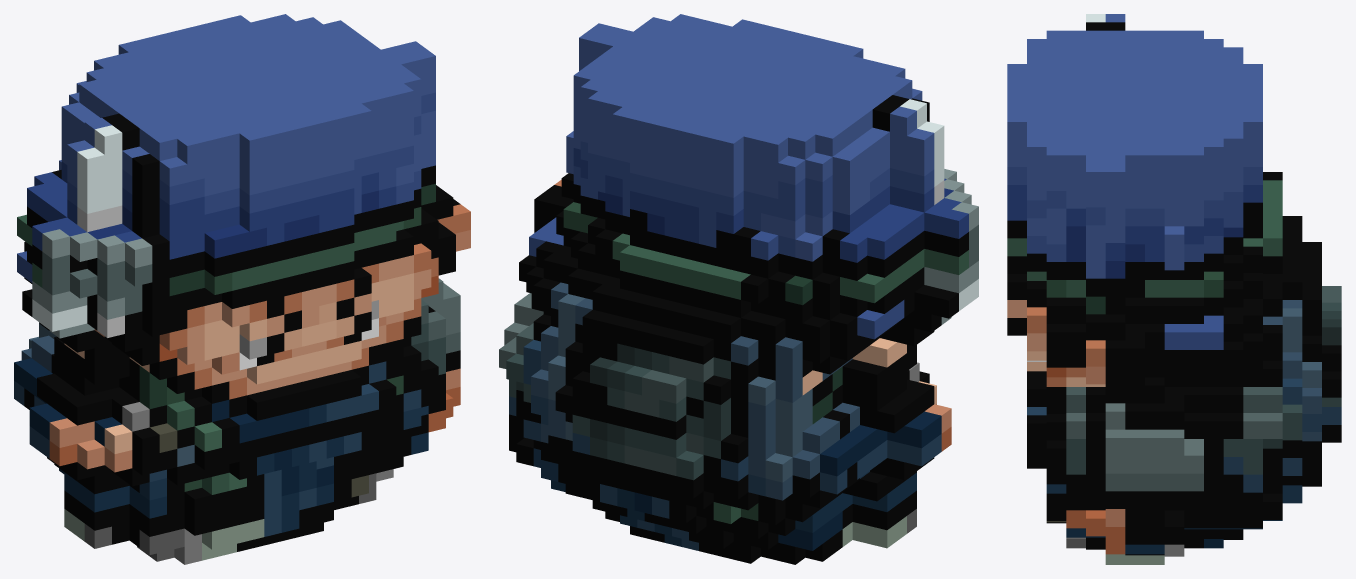
File: Icon_203_03.obj
3 views of the same model, side by side, from view 1: azimuth 30°, elevation 25°; view 2: azimuth 150°, elevation 25°; view 3: azimuth 270°, elevation 25° (orthographic). The views are drawn at different scales.
Bounding box in the file's own units: 2.4 × 2.4 × 1.7.
